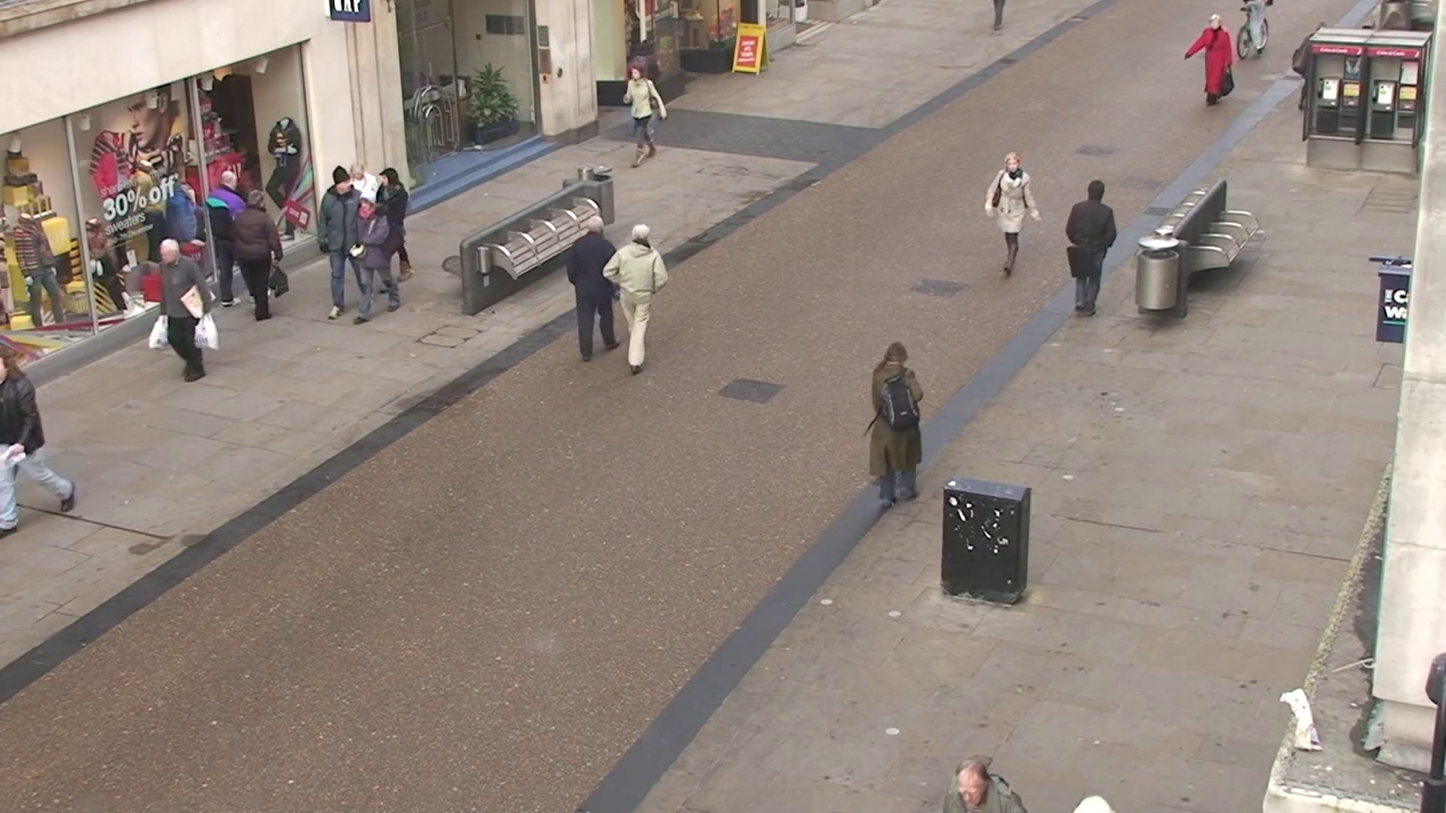person: (0, 337, 75, 537), (604, 221, 670, 377), (868, 341, 926, 508), (146, 239, 212, 382), (564, 204, 622, 362), (316, 168, 371, 321), (203, 155, 252, 313), (1064, 179, 1118, 318), (985, 151, 1039, 279), (230, 187, 278, 321), (371, 166, 411, 293), (1185, 15, 1237, 105), (951, 756, 1027, 813), (625, 61, 666, 166)
